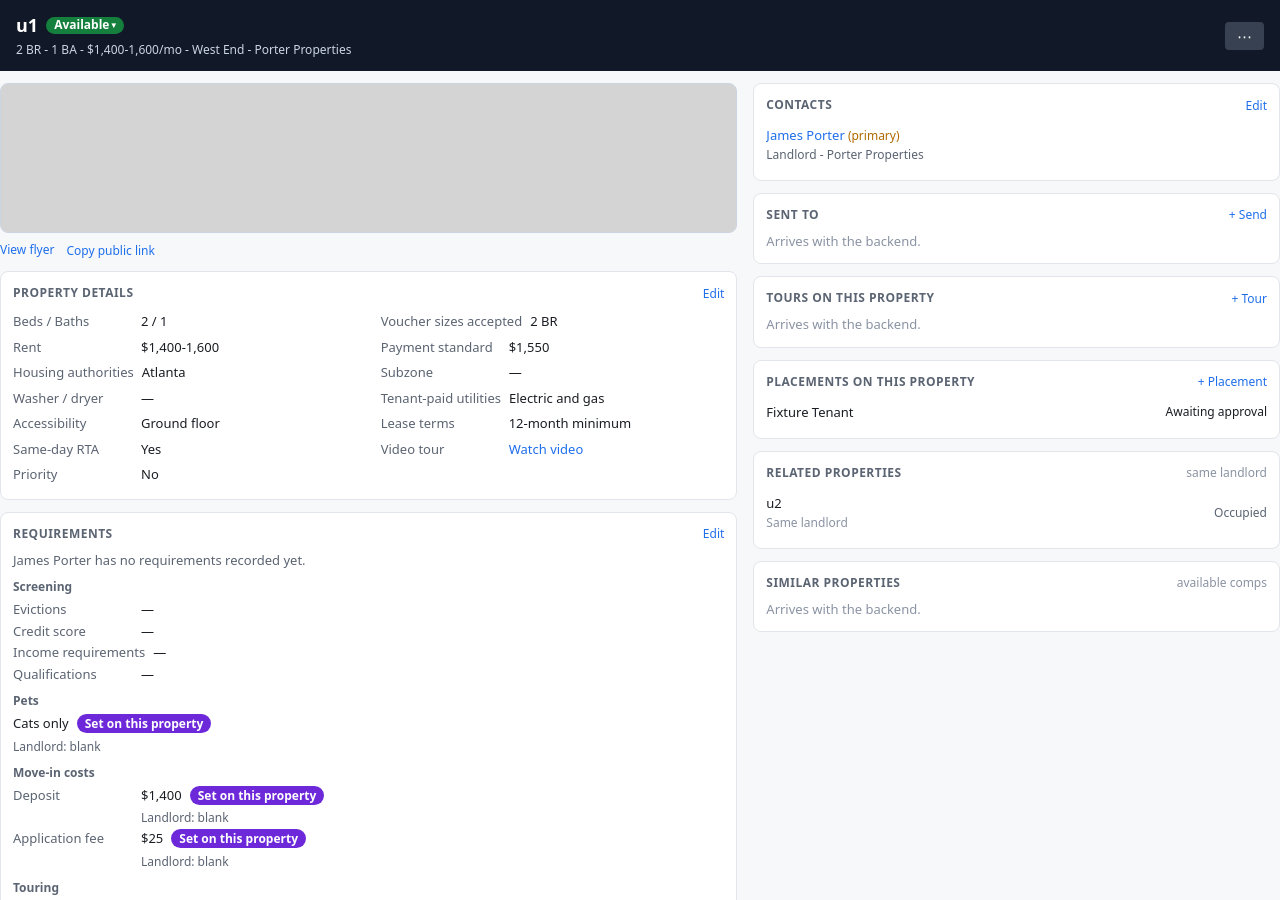
Test: ListingDetail › the Requirements card Edit opens the property edit form; a deleted property offers no Edit
The width and height of the screenshot is (1280, 900).
Click the button with aria-label "Edit property requirements" at (714, 534), box [703,525,724,542]
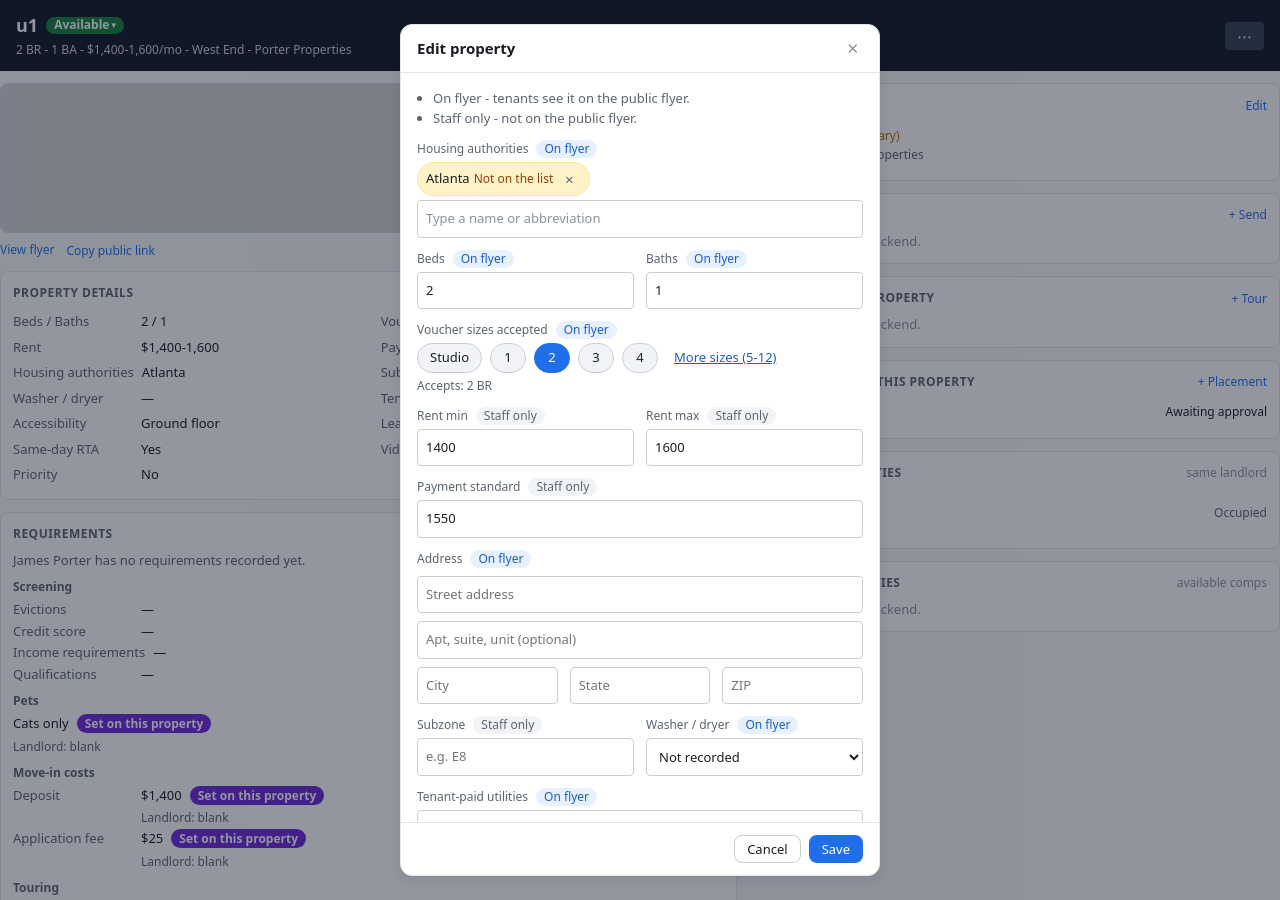
Expected: the dialog "Edit property" is shown, [400,24,880,876]
